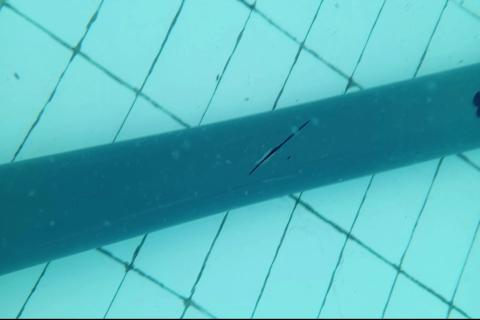kebocoran: (472, 90, 480, 121)
keretakan: (249, 118, 312, 174)
